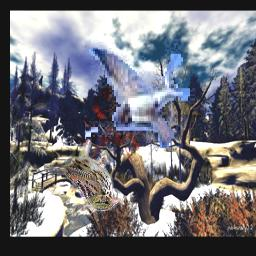Sparrow: (43, 140, 120, 212)
Swallow: (85, 39, 195, 148)
